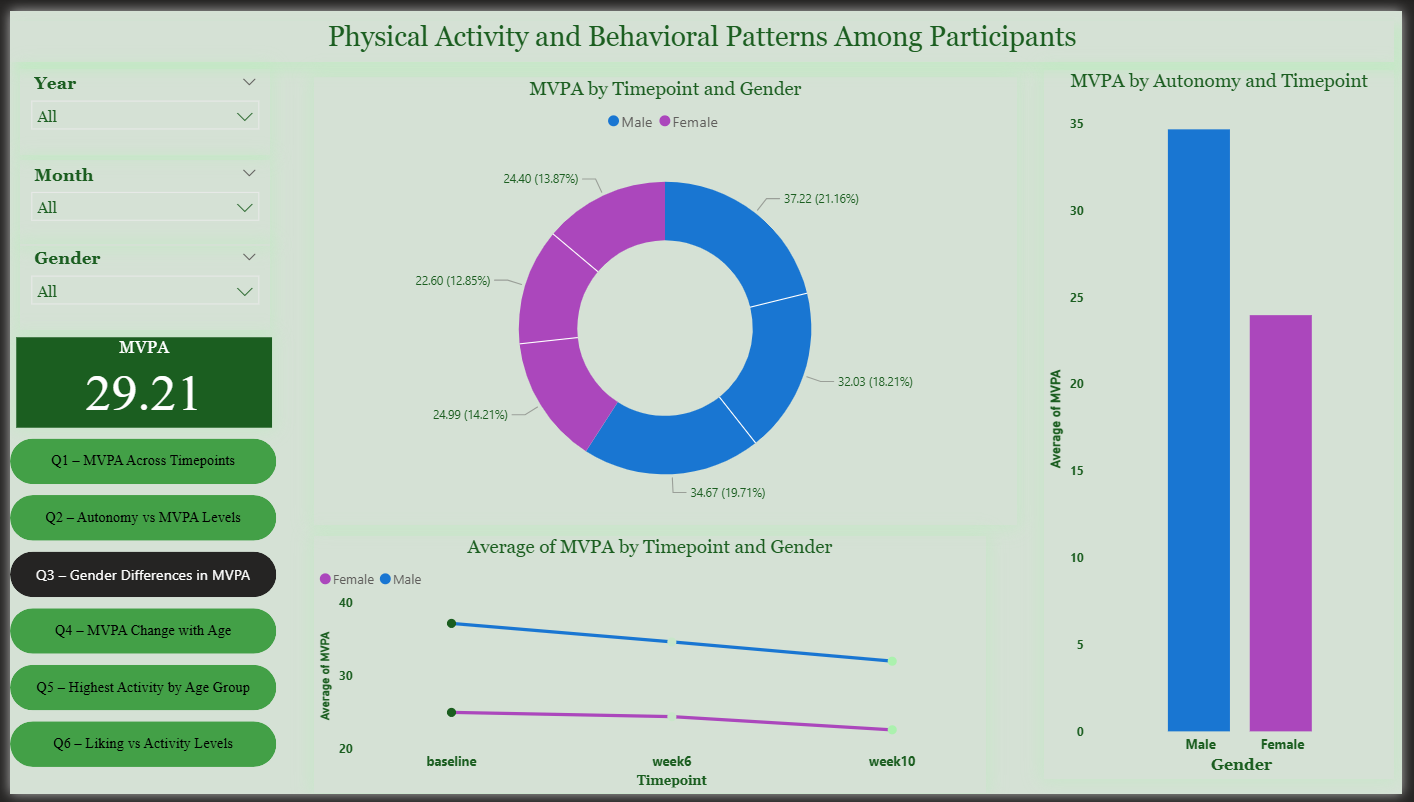

Layout of this report page (visuals, bound fields, positions):
{"tool":"powerbi","page":{"name":"Q3 – Gender Differences in MVPA","canvas":[1280,720],"ordinal":2},"visuals":[{"type":"slicer","fields":{"Values":["ActivityData_Clean.File_Date.Variation.Date Hierarchy.Year"]},"box":[8.7,53.1,229.8,78.9],"z":0,"group":"g1"},{"type":"textbox","title":"Physical Activity and Behavioral Patterns Among Participants","box":[0,9.7,1272.8,37.4],"z":0},{"type":"donutChart","title":"MVPA by Timepoint and Gender","fields":{"Y":["Avg(ActivityData_Clean.MVPA)"],"Category":["Demographics_Clean.Gender"],"Series":["ActivityData_Clean.Timepoint"]},"box":[279.8,60.7,646.4,411.9],"z":1000},{"type":"slicer","fields":{"Values":["ActivityData_Clean.File_Date.Variation.Date Hierarchy.Month"]},"box":[8.7,136.8,229.8,78.9],"z":1000,"group":"g1"},{"type":"clusteredColumnChart","title":"MVPA by Autonomy and Timepoint","fields":{"Y":["Avg(ActivityData_Clean.MVPA)"],"Category":["Demographics_Clean.Gender"]},"box":[950,53.6,322.6,652.4],"z":2000},{"type":"slicer","fields":{"Values":["ActivityData_Clean.Gender"]},"box":[9.1,214.3,229.9,79.2],"z":2000,"group":"g1"},{"type":"lineChart","fields":{"Category":["ActivityData_Clean.Timepoint"],"Y":["Avg(ActivityData_Clean.MVPA)"],"Series":["Demographics_Clean.Gender"]},"box":[279.2,483.1,618.2,236.4],"z":3000},{"type":"group","id":"g1","title":"Group 1","box":[0,53.1,245.5,648.2],"z":4000},{"type":"kpi","title":"MVPA","fields":{"Indicator":["Avg(ActivityData_Clean.MVPA)"],"TrendLine":["LikingData_Clean.Week"]},"box":[6,299.9,235.1,83.1],"z":5000,"group":"g1"},{"type":"pageNavigator","box":[0,393.5,245.5,307.8],"z":6001,"group":"g1"}]}

Visuals, with their boxes in screenshot pixels (x1, y1, x2, y2), scaled from the page's 1280x720 canvas onto the 1414x802 screenshot:
slicer - ActivityData_Clean.File_Date.Variation.Date Hierarchy.Year: detection(10, 59, 263, 147)
"Physical Activity and Behavioral Patterns Among Participants" textbox: detection(0, 11, 1406, 52)
"MVPA by Timepoint and Gender" donutChart: detection(309, 68, 1023, 526)
slicer - ActivityData_Clean.File_Date.Variation.Date Hierarchy.Month: detection(10, 152, 263, 240)
"MVPA by Autonomy and Timepoint" clusteredColumnChart: detection(1049, 60, 1406, 786)
slicer - ActivityData_Clean.Gender: detection(10, 239, 264, 327)
lineChart - ActivityData_Clean.Timepoint x Avg(ActivityData_Clean.MVPA): detection(308, 538, 991, 801)
"Group 1" group: detection(0, 59, 271, 781)
"MVPA" kpi: detection(7, 334, 266, 427)
pageNavigator: detection(0, 438, 271, 781)
